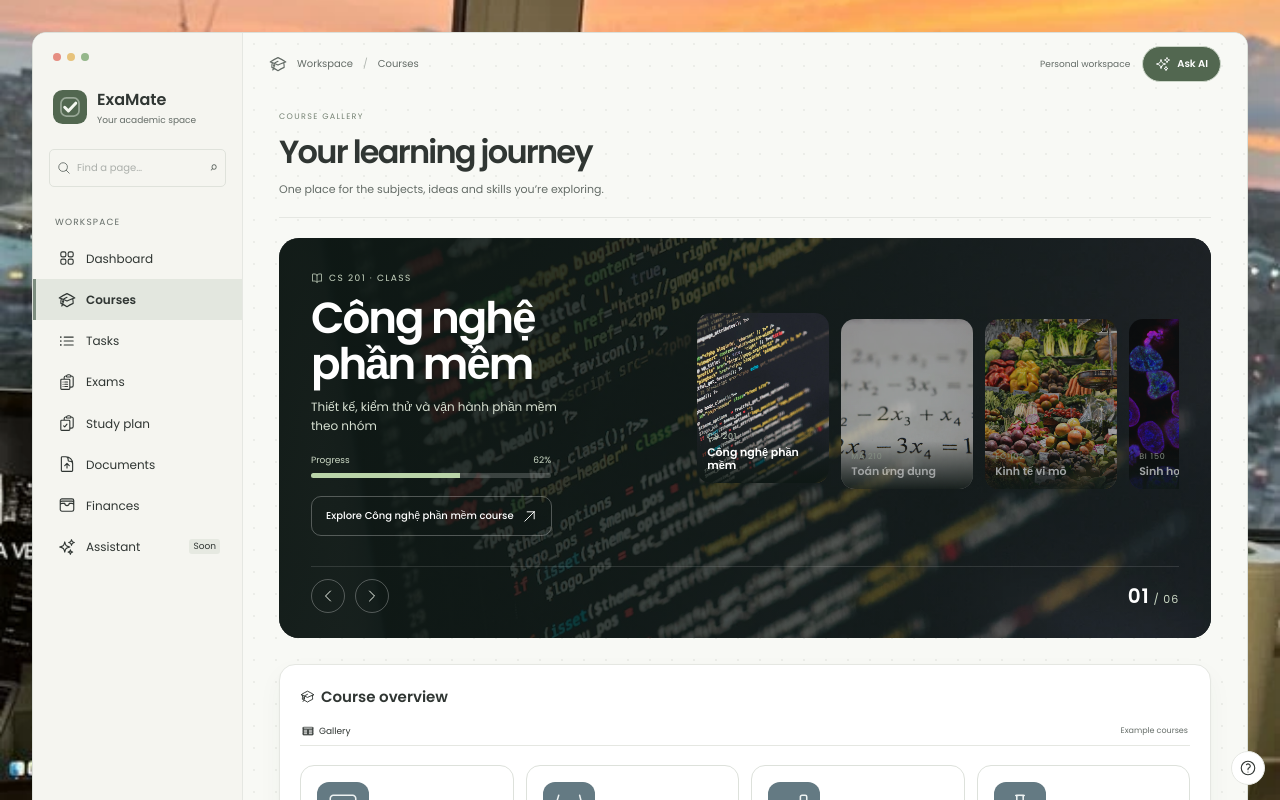
Test case: Academic workspace › keeps carousel thumbnails for selection and offers a separate detail link
Click the button with aria-label "Select Toán ứng dụng course". click: (907, 404)
box: [841, 319, 973, 489]
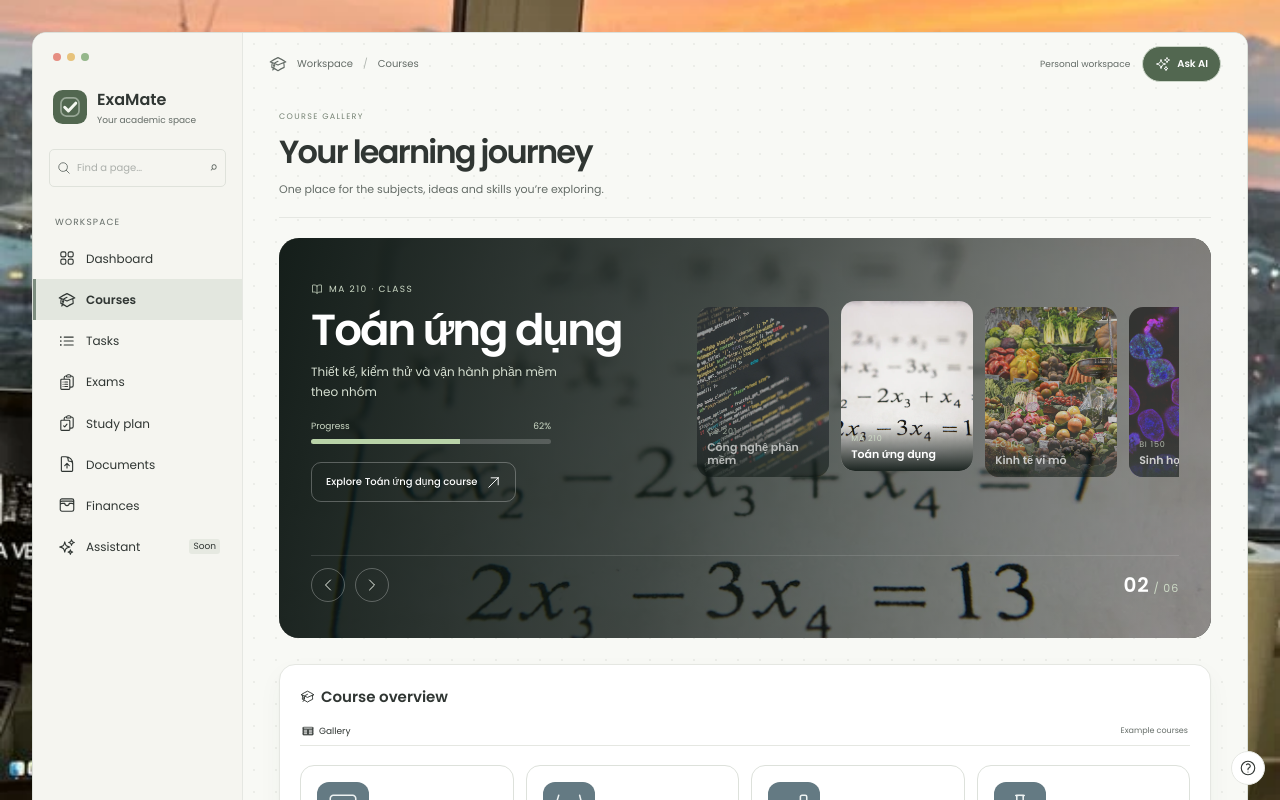
Click the link "Explore Toán ứng dụng course". click: (413, 482)
box: [311, 462, 516, 502]
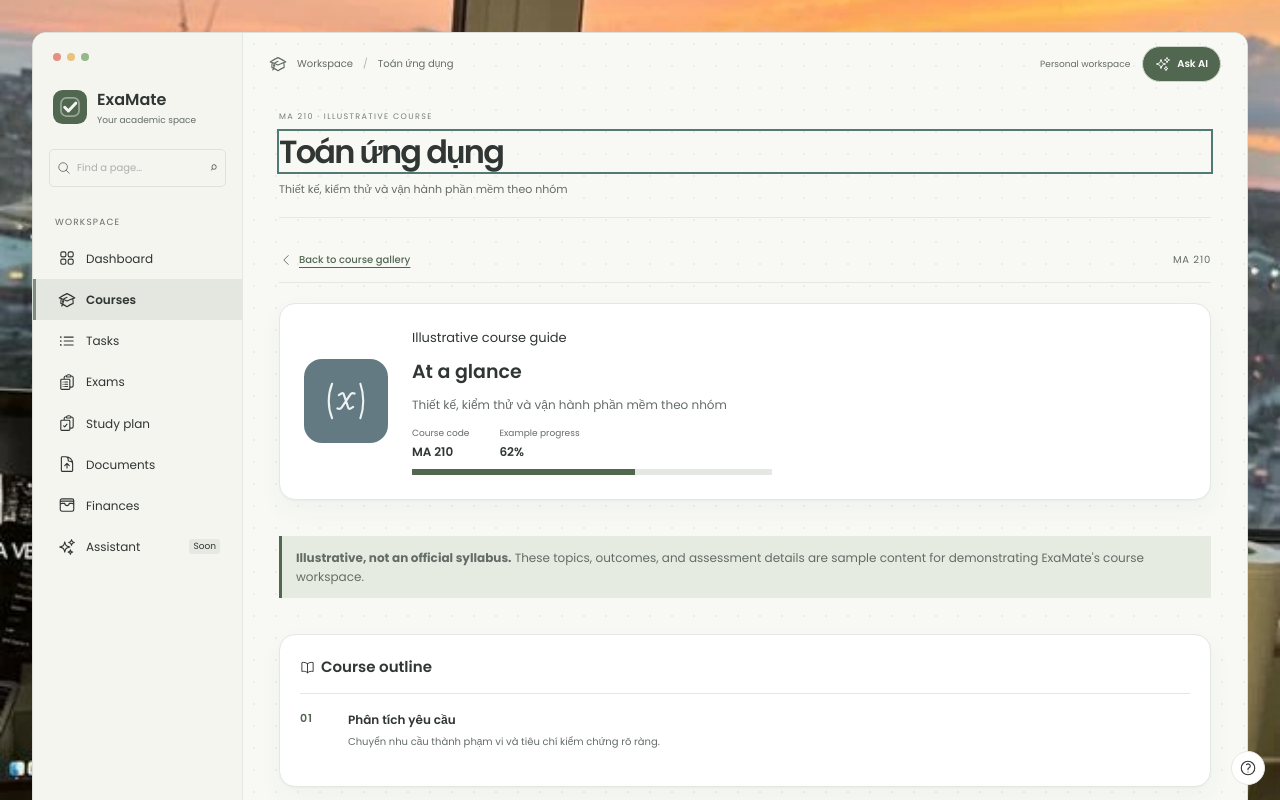
Expected: the heading "Toán ứng dụng" is shown, [279, 129, 503, 174]
